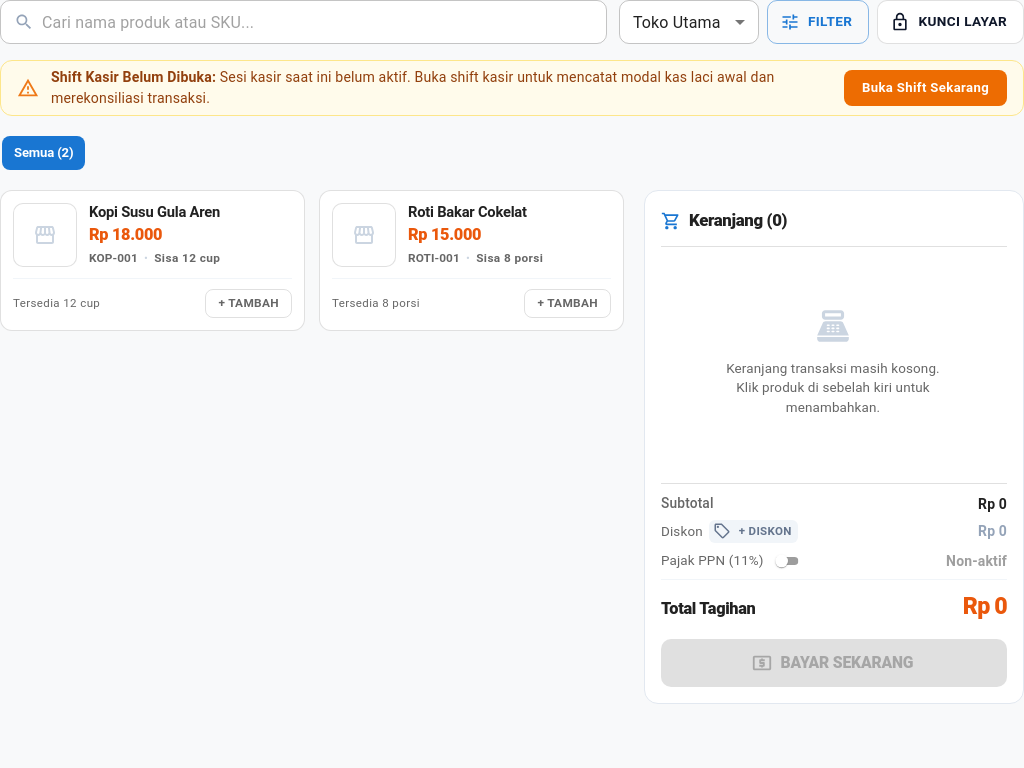
Test case: PosPage › applies discount and tax (PPN 11%) recalculating total correctly
Click the heading "Kopi Susu Gula Aren".
click(154, 212)  # box [89, 203, 220, 221]
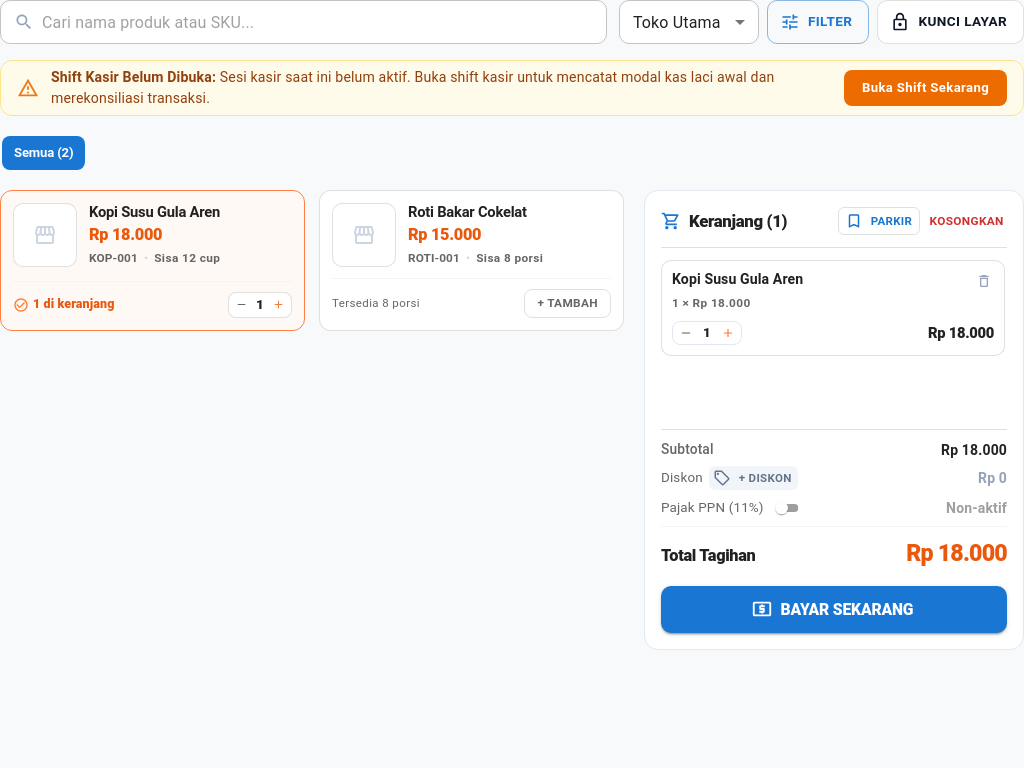
// Open discount modal
Click the button "+ Diskon".
click(753, 478)  # box [709, 466, 798, 490]
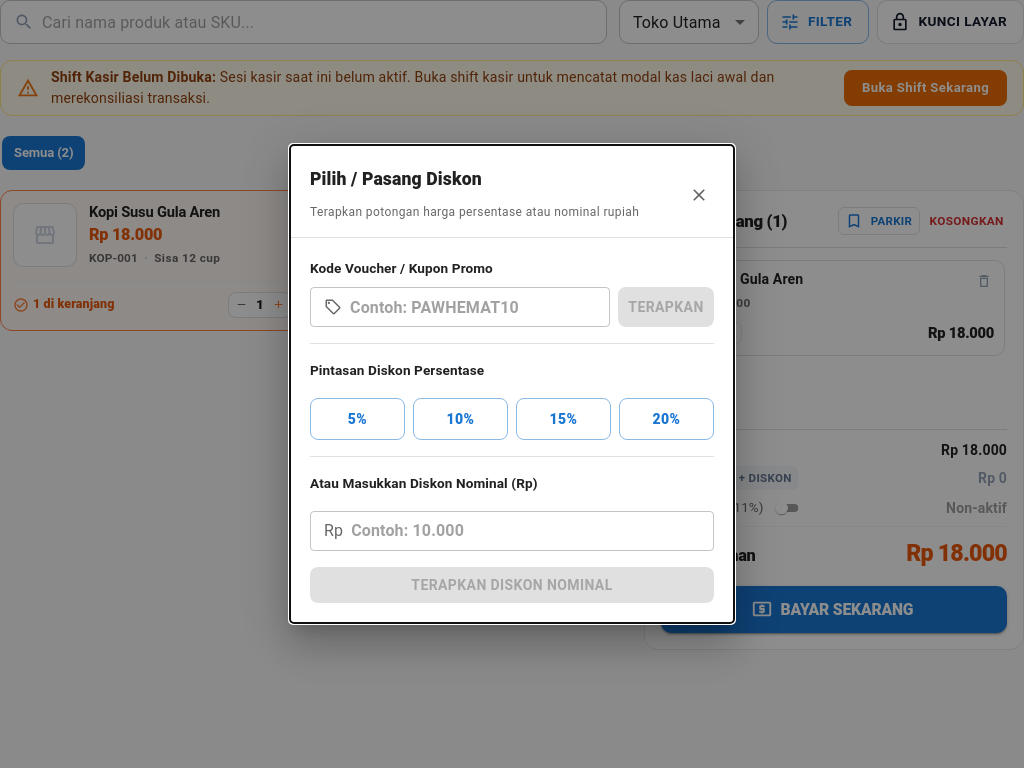
// Select 10% preset button
Click the button "10%".
click(460, 419)  # box [413, 398, 508, 440]
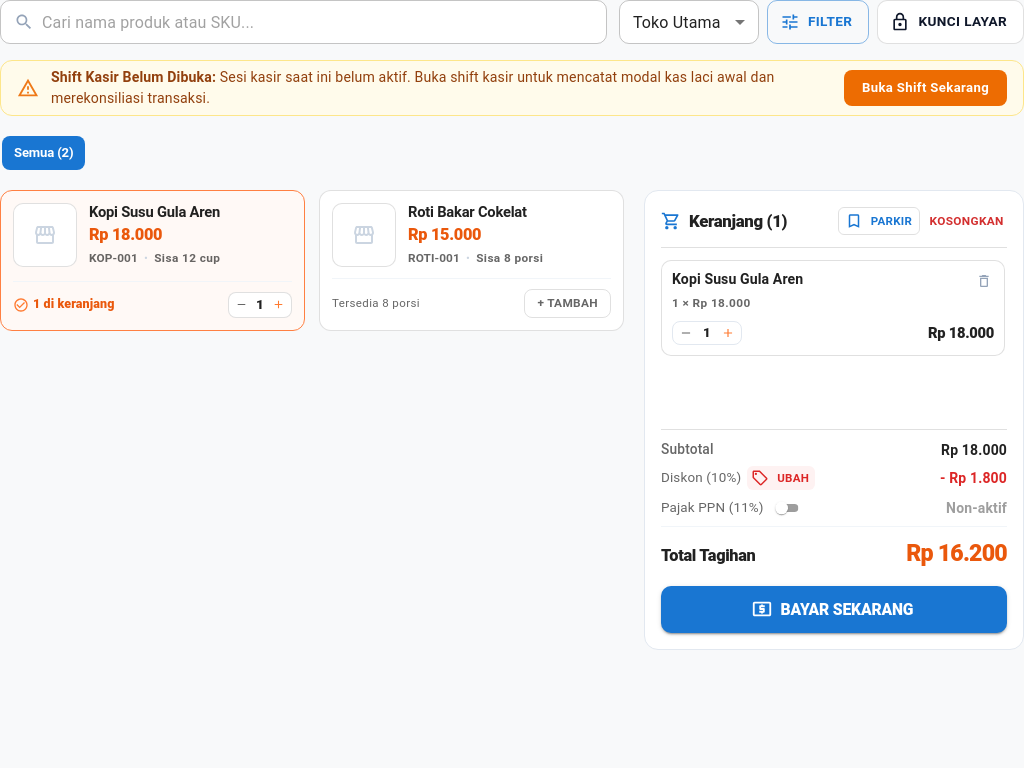
Expected: the dialog is gone
Expected: the text "Diskon (10%)" is shown, [661, 468, 741, 488]
Expected: the text "- Rp 1.800" is shown, [940, 468, 1007, 488]
// Toggle PPN 11%
Click the switch.
click(781, 508)  # box [775, 501, 788, 514]
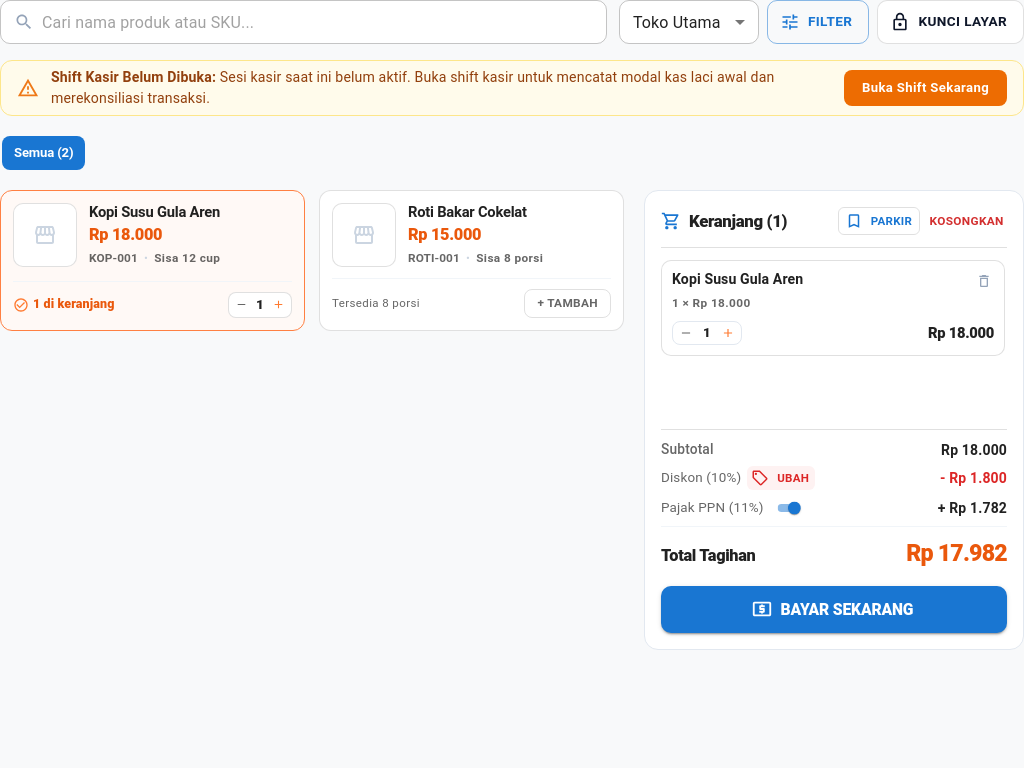
Expected: the text "+ Rp 1.782" is shown, [938, 498, 1007, 518]
Expected: the heading "Rp 17.982" is shown, [906, 535, 1007, 572]
